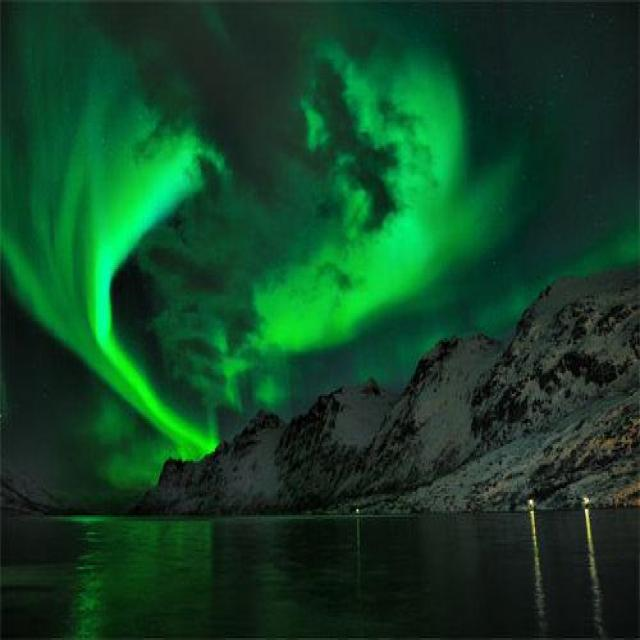other: (246, 112, 477, 332), (53, 166, 223, 454), (580, 488, 602, 552), (521, 478, 547, 524)
